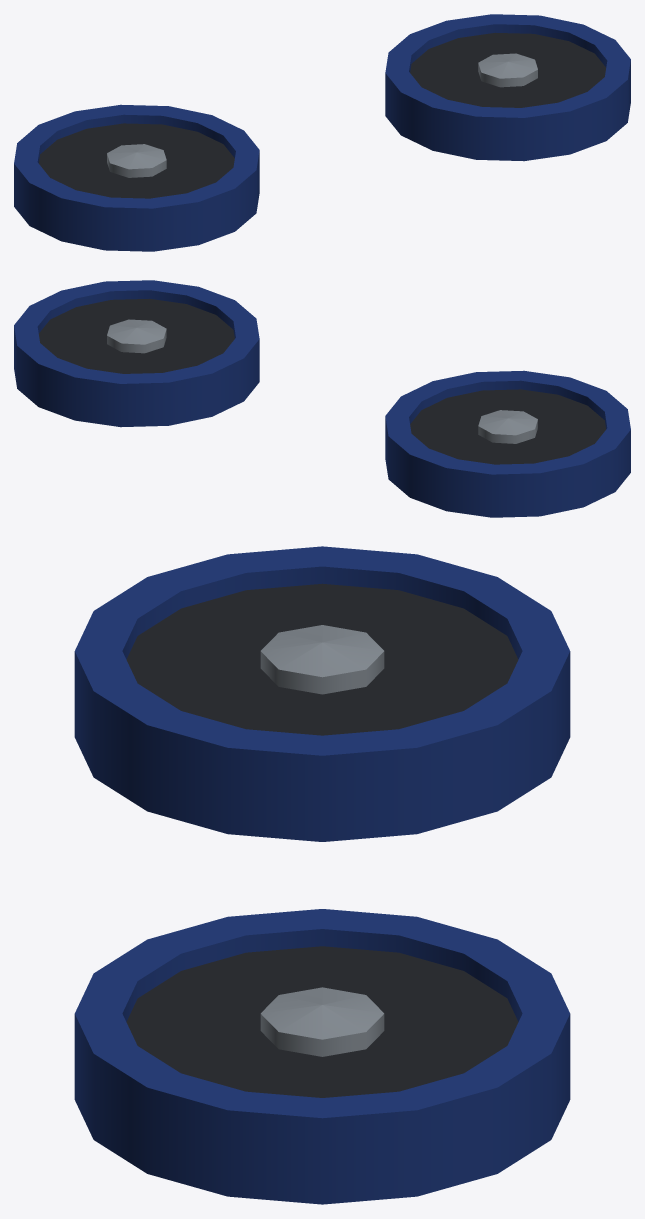
File: l20_fan.obj
The picture shows the model from 3 angles, top to bottom: view 1: azimuth 30°, elevation 25°; view 2: azimuth 150°, elevation 25°; view 3: azimuth 270°, elevation 25°; orthographic projection. The views are drawn at different scales.
Visible parts, largest first — view 1: l20_fan; view 2: l20_fan; view 3: l20_fan.
Boxes of the visible parts, x1,y1,x2,y2 form: l20_fan: (14,14,630,251); l20_fan: (14,280,630,517); l20_fan: (74,546,570,1204).
Bounding box in the file's own units: 1.42 × 0.11 × 0.52.
